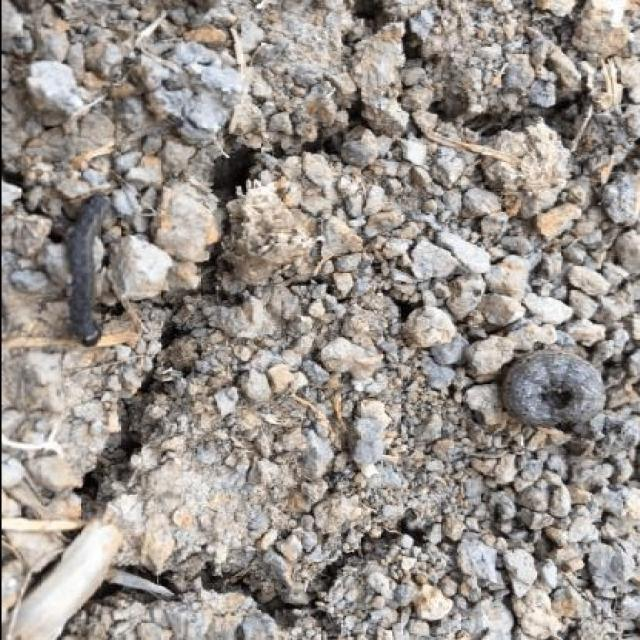black cutworm: (52, 192, 128, 370), (499, 344, 602, 440)
